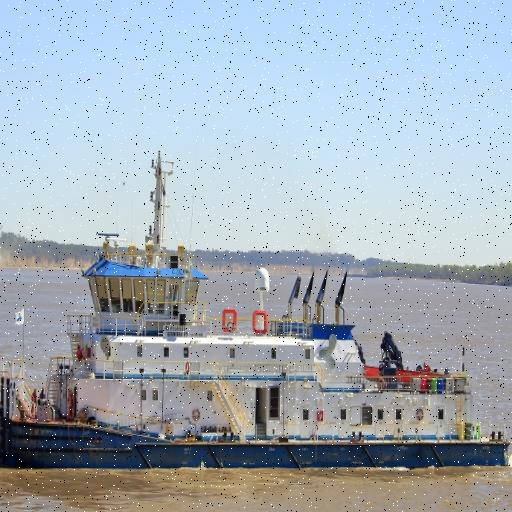tugboat: (1, 147, 512, 485)
